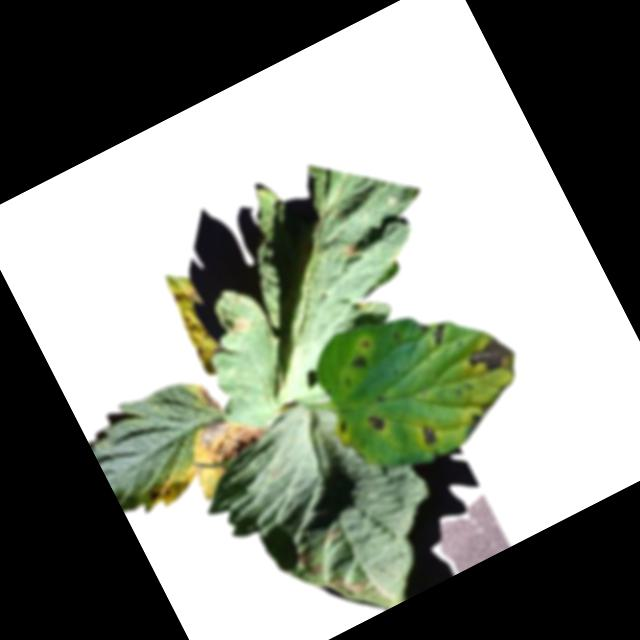Early_blight: (189, 401, 275, 480), (462, 332, 522, 390), (326, 566, 369, 607), (417, 314, 455, 355), (166, 281, 201, 316), (193, 380, 223, 419), (456, 410, 489, 442), (297, 547, 325, 579), (226, 314, 252, 341), (362, 411, 387, 437), (419, 422, 441, 446), (143, 486, 165, 506), (349, 354, 370, 374), (341, 242, 360, 262), (336, 420, 350, 436)
